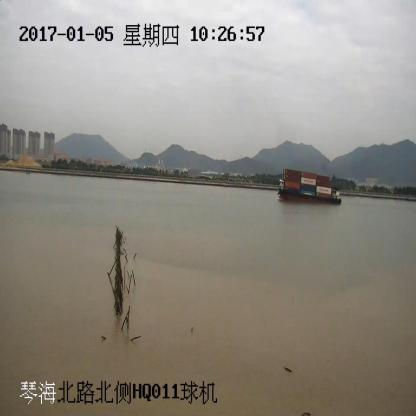Container Ship: (276, 171, 342, 204)
